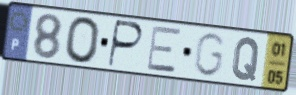8: (30, 12, 65, 61)
E: (146, 25, 183, 75)
G: (191, 30, 228, 79)
O: (64, 15, 103, 66)
P: (106, 18, 146, 70)
Q: (231, 36, 263, 83)
